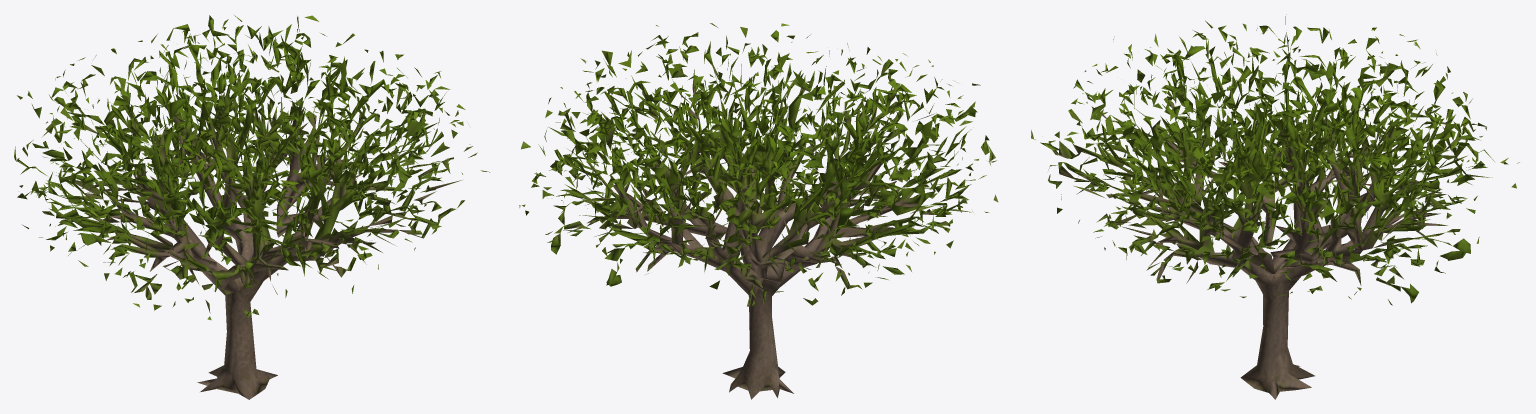
Rendered from kw_tree.glb.
3 renders of one model, left to right at view 1: azimuth 30°, elevation 25°; view 2: azimuth 150°, elevation 25°; view 3: azimuth 270°, elevation 25°, orthographic.
Parts seen in each view (by area): view 1: frame; view 2: frame; view 3: frame.
Part boxes in pixels (left/top/right/bottom): frame: left=14, top=15, right=489, bottom=399; frame: left=519, top=23, right=998, bottom=399; frame: left=1031, top=14, right=1519, bottom=399.
Size of the model in its own units: 11.19 by 7.81 by 11.43.
1 material, 1 textured.
